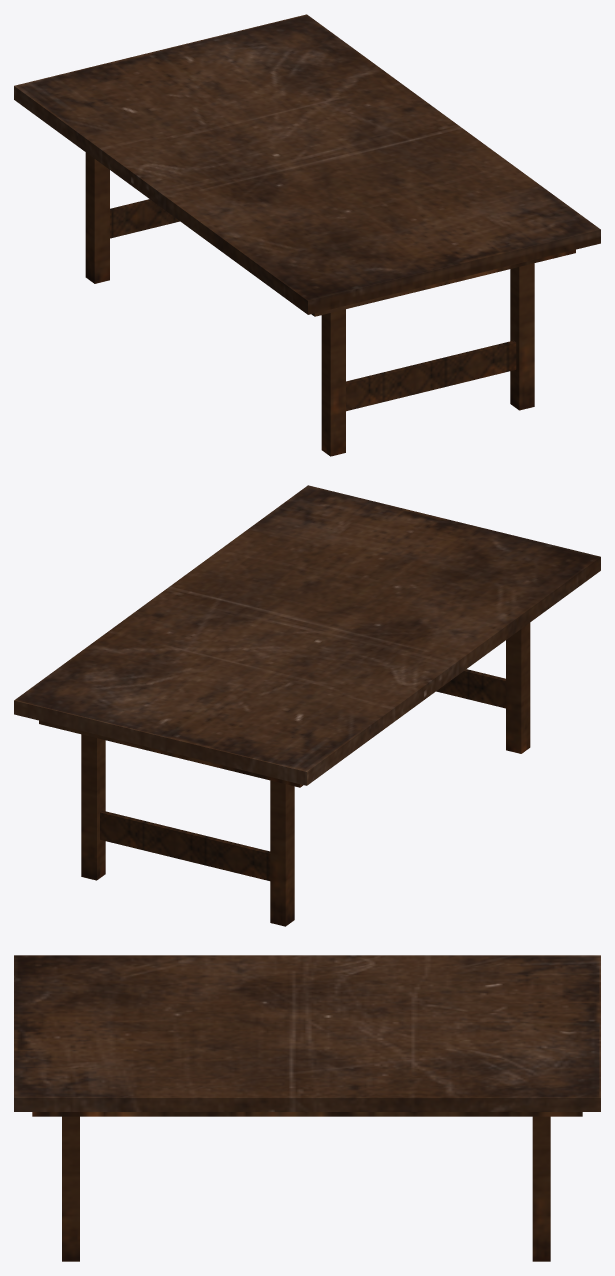
Rendered from prop_table.obj.
The picture shows the model from 3 angles, top to bottom: view 1: azimuth 30°, elevation 25°; view 2: azimuth 150°, elevation 25°; view 3: azimuth 270°, elevation 25°; orthographic projection.
Parts seen in each view (by area): view 1: Props_DiningTable; view 2: Props_DiningTable; view 3: Props_DiningTable.
Part boxes in pixels (left/top/right/bottom): Props_DiningTable: left=14, top=14, right=600, bottom=456; Props_DiningTable: left=14, top=485, right=600, bottom=926; Props_DiningTable: left=14, top=955, right=600, bottom=1261.
Bounding box in the file's own units: 1.24 × 0.7437 × 2.15.
1 material, 1 textured.
